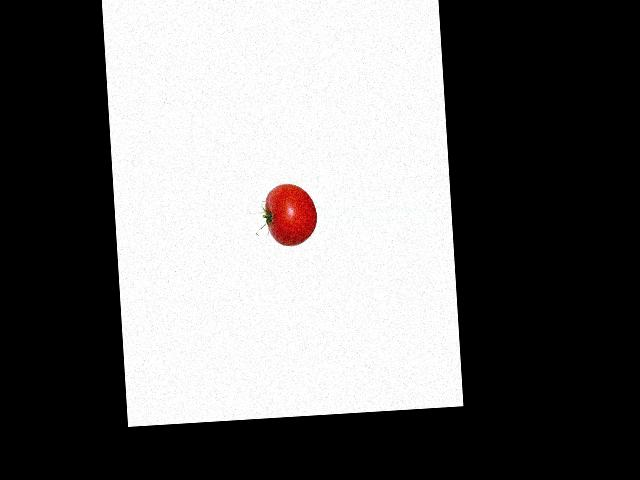tomato: (264, 182, 318, 246)
